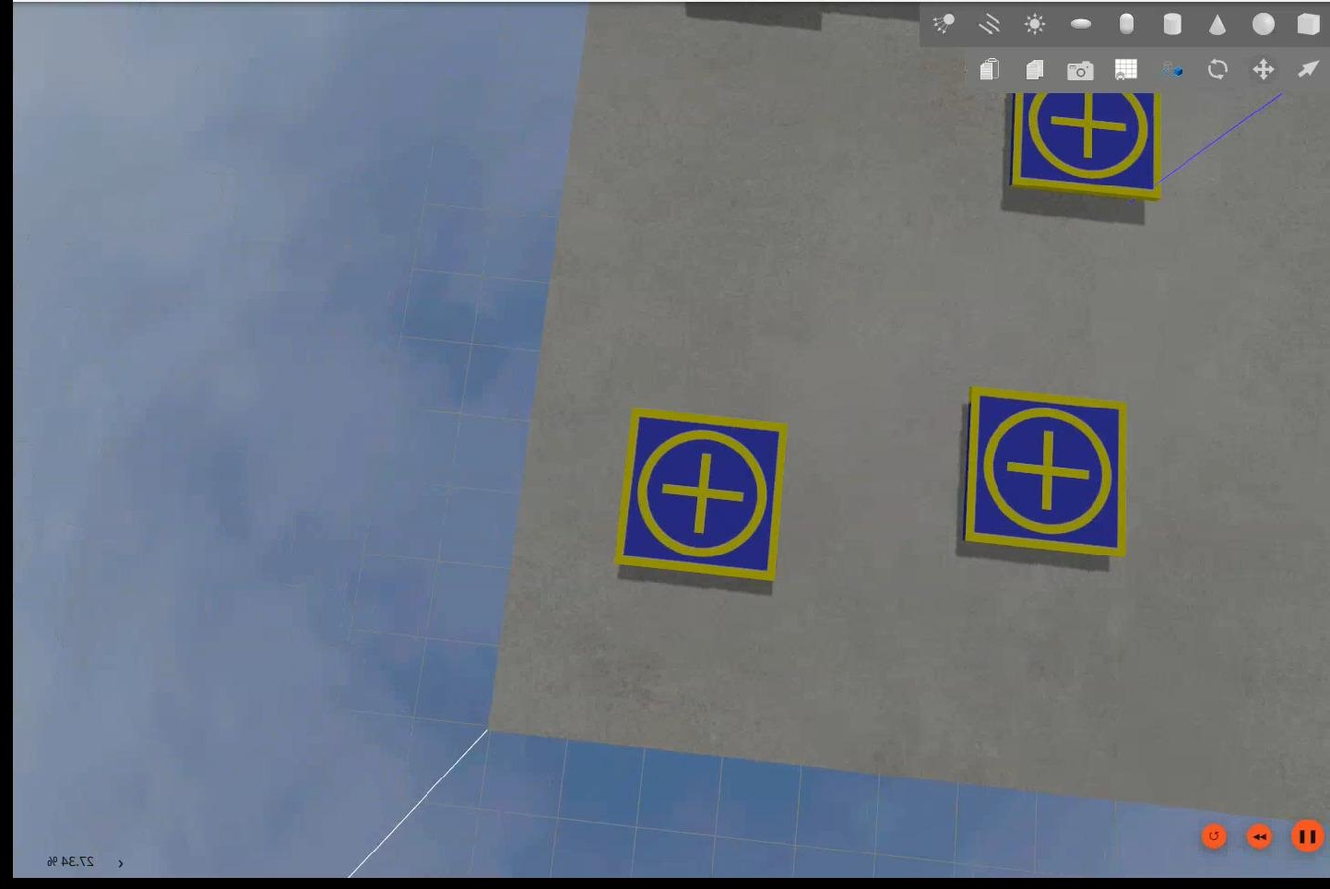small_base: (611, 408, 787, 589), (958, 387, 1132, 563), (1003, 87, 1161, 203)
